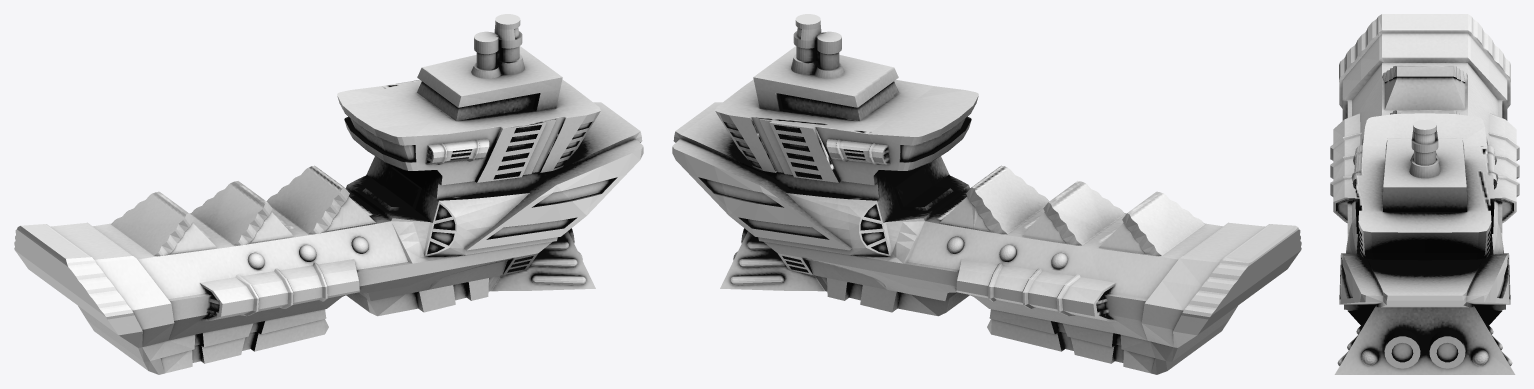
File: nave.glb
3 renders of one model, left to right at view 1: azimuth 30°, elevation 25°; view 2: azimuth 150°, elevation 25°; view 3: azimuth 270°, elevation 25°, orthographic. The views are drawn at different scales.
Parts seen in each view (by area): view 1: miniatures_ship_fresh; view 2: miniatures_ship_fresh; view 3: miniatures_ship_fresh.
Part boxes in pixels (box(x1,y1,x2,y2)): miniatures_ship_fresh: box(14, 14, 643, 374); miniatures_ship_fresh: box(672, 14, 1301, 374); miniatures_ship_fresh: box(1330, 14, 1519, 374).
Bounding box in the file's own units: 0.8534 × 0.3439 × 0.2549.
Materials: 1 (1 with a texture image).
